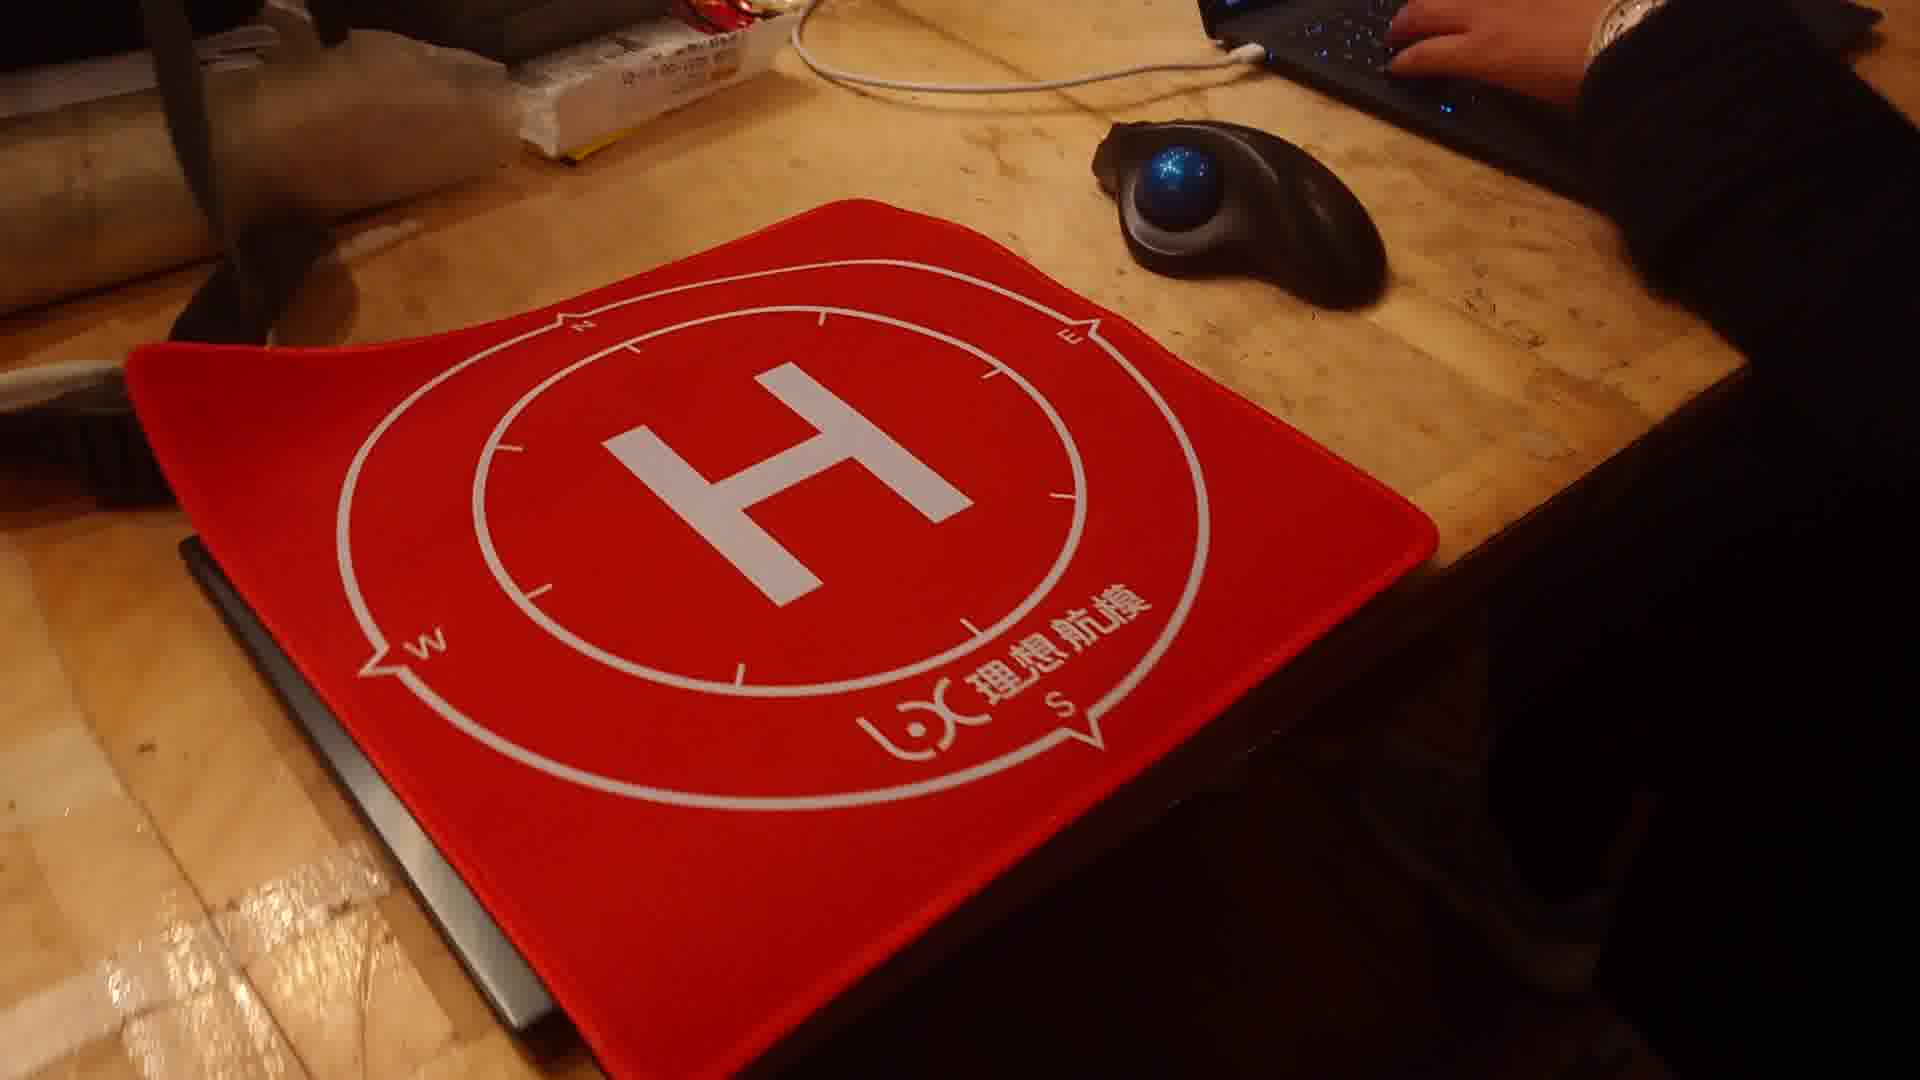H: (603, 359, 976, 605)
